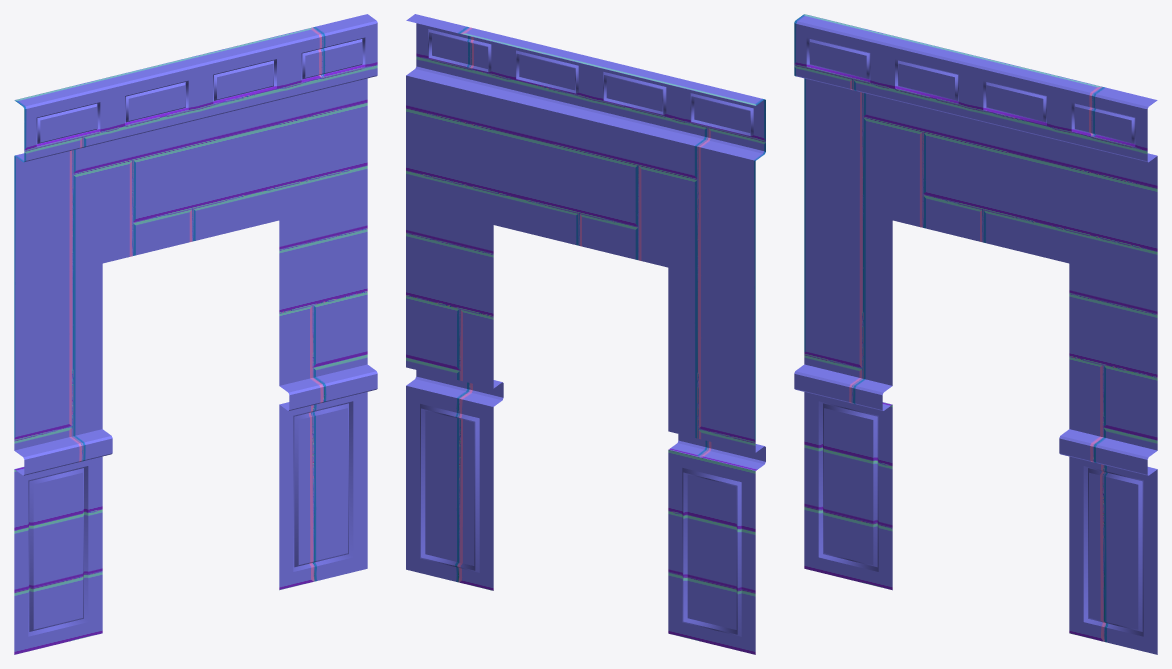
The model's file is Foyer Door Frame Center Pivot.fbx.
The picture shows the model from 3 angles, left to right: view 1: azimuth 30°, elevation 25°; view 2: azimuth 150°, elevation 25°; view 3: azimuth 330°, elevation 25°; orthographic projection.
Visible parts, largest first — view 1: Normal_Wall7; view 2: Normal_Wall7; view 3: Normal_Wall7.
Boxes of the visible parts, x1,y1,x2,y2 form: Normal_Wall7: [14, 14, 377, 654]; Normal_Wall7: [406, 14, 765, 654]; Normal_Wall7: [794, 14, 1157, 654].
Size of the model in its own units: 200 by 300 by 11.67.
